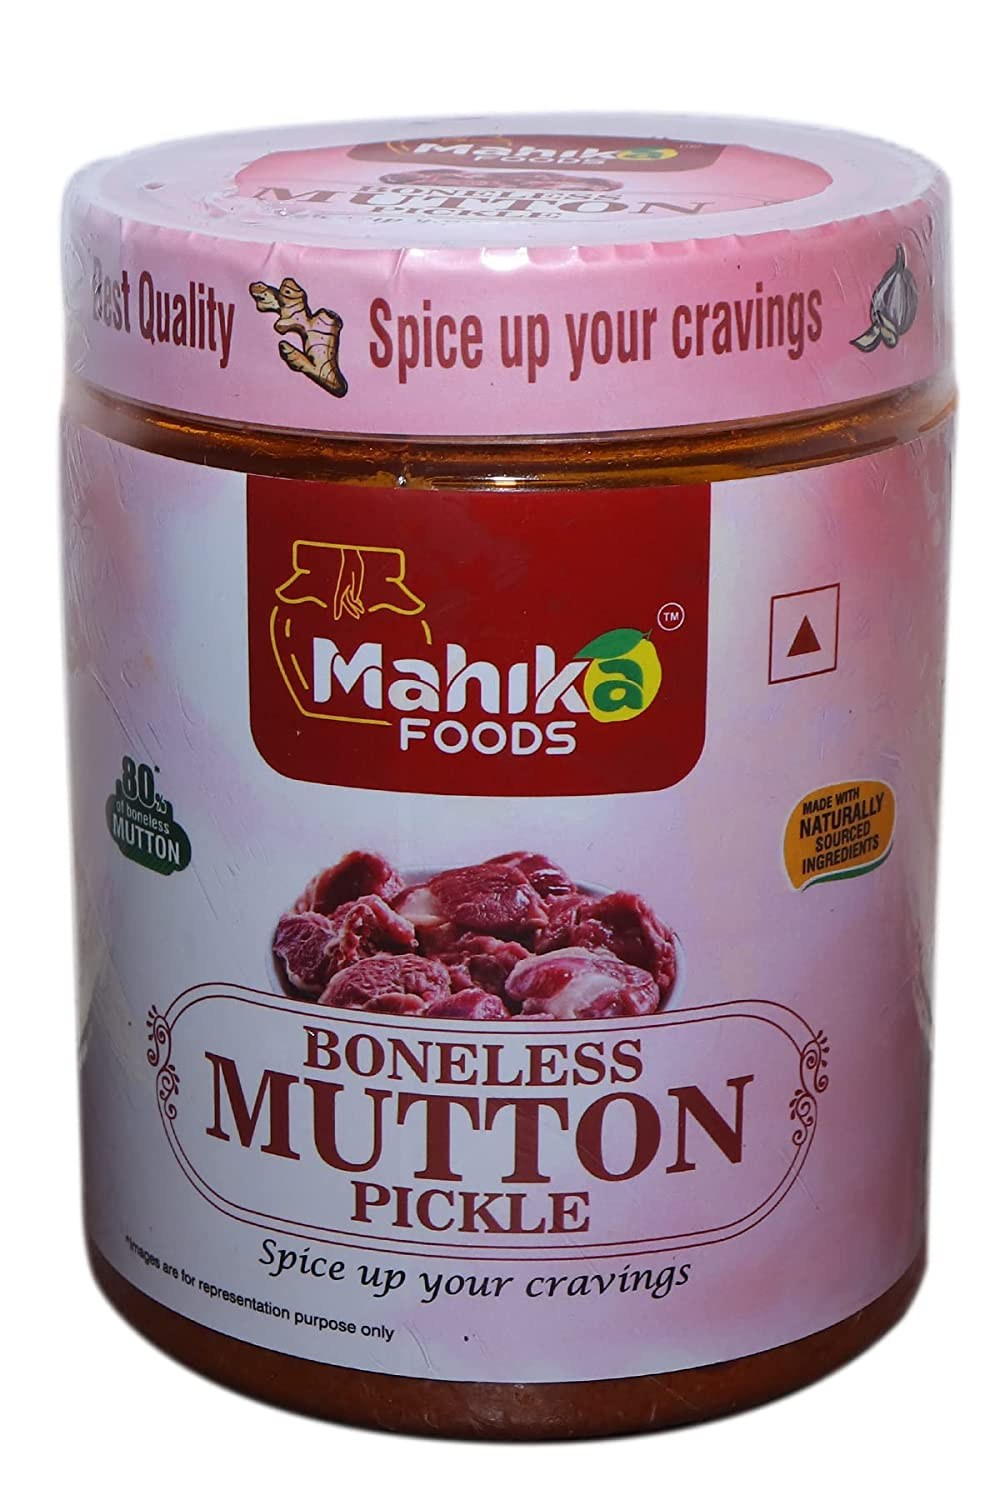non_veg: (763, 583, 840, 731)
